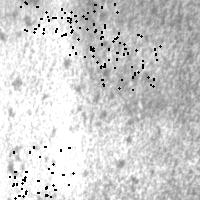pitted_surface: (61, 1, 200, 177), (1, 18, 89, 188), (61, 3, 119, 63), (100, 31, 159, 89), (12, 146, 72, 200), (17, 0, 76, 33), (0, 171, 37, 200)
